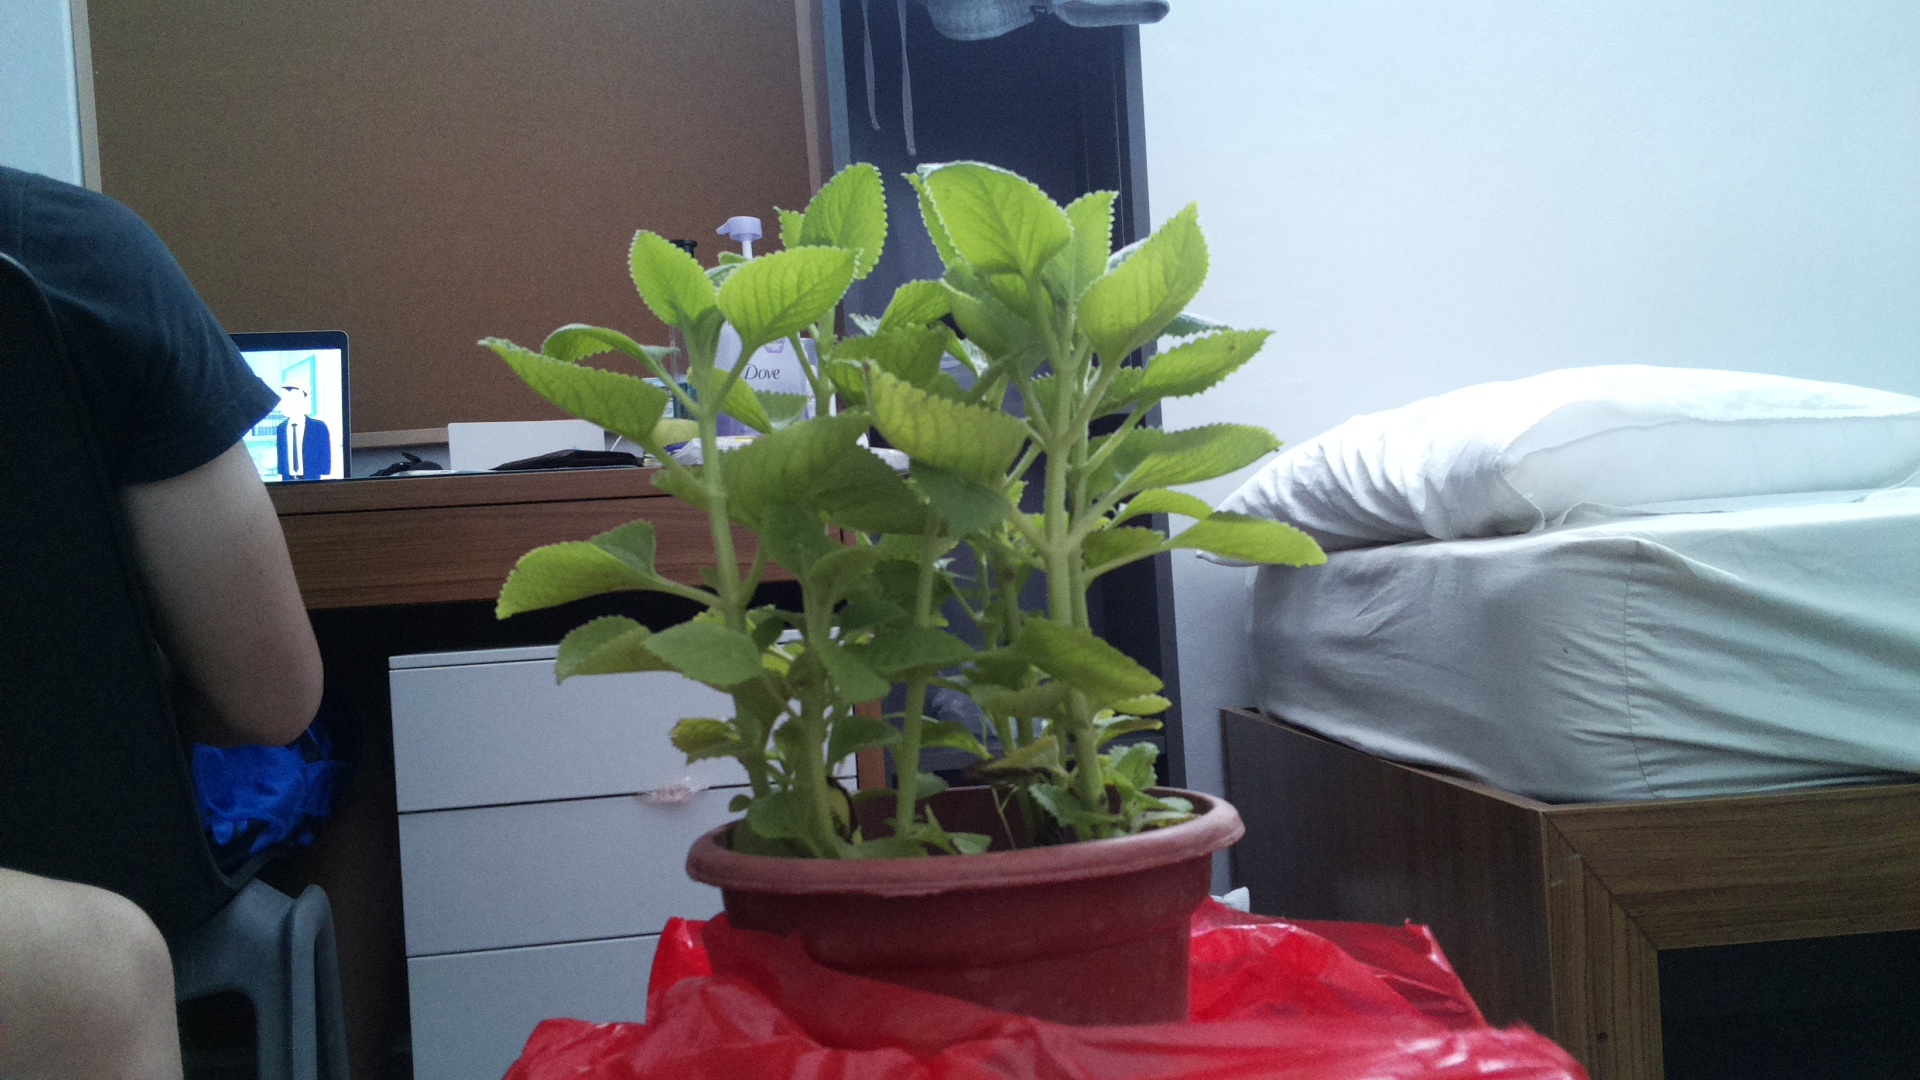leaf: (463, 322, 676, 451), (1076, 199, 1224, 378), (897, 146, 1071, 297), (852, 353, 1025, 501), (488, 513, 669, 638), (723, 241, 872, 363), (736, 404, 881, 510), (1124, 320, 1288, 409), (1011, 621, 1179, 705), (1113, 425, 1292, 498), (808, 146, 891, 290), (613, 229, 723, 334), (629, 622, 771, 688), (1168, 506, 1341, 560), (553, 605, 655, 690), (717, 778, 819, 835), (820, 634, 891, 705), (876, 525, 967, 574)
